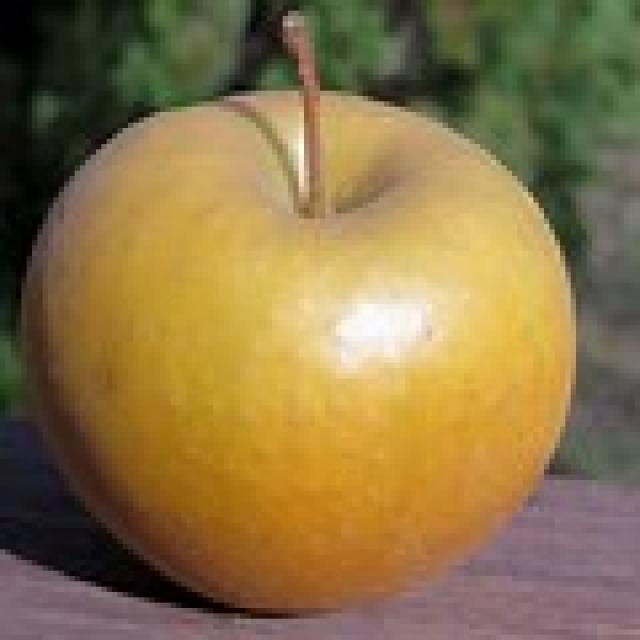apple: (22, 11, 581, 616)
